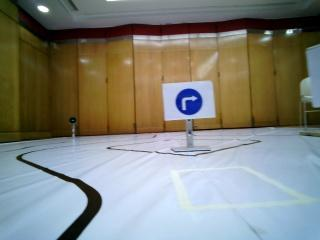right: (162, 81, 215, 118)
